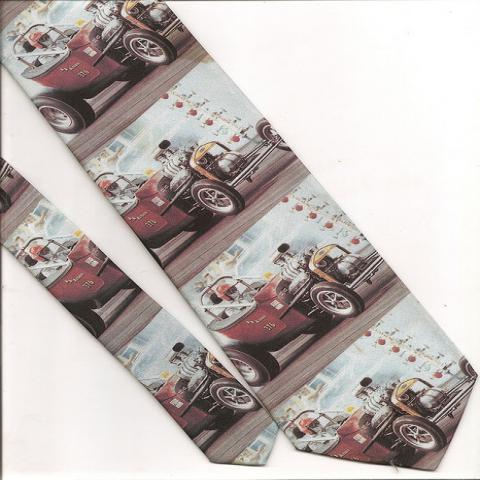car: (95, 118, 291, 270), (202, 245, 383, 391), (6, 0, 184, 137), (285, 355, 479, 468), (139, 340, 263, 442), (17, 234, 138, 337), (0, 155, 29, 213)
